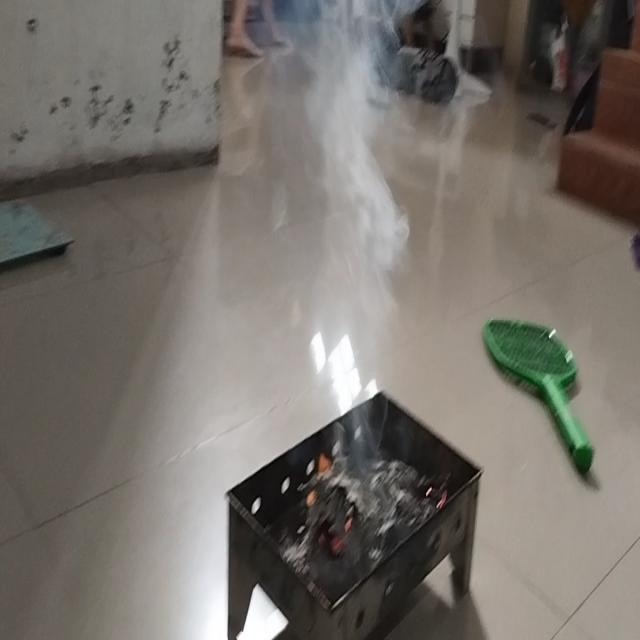fire: (300, 0, 414, 470)
